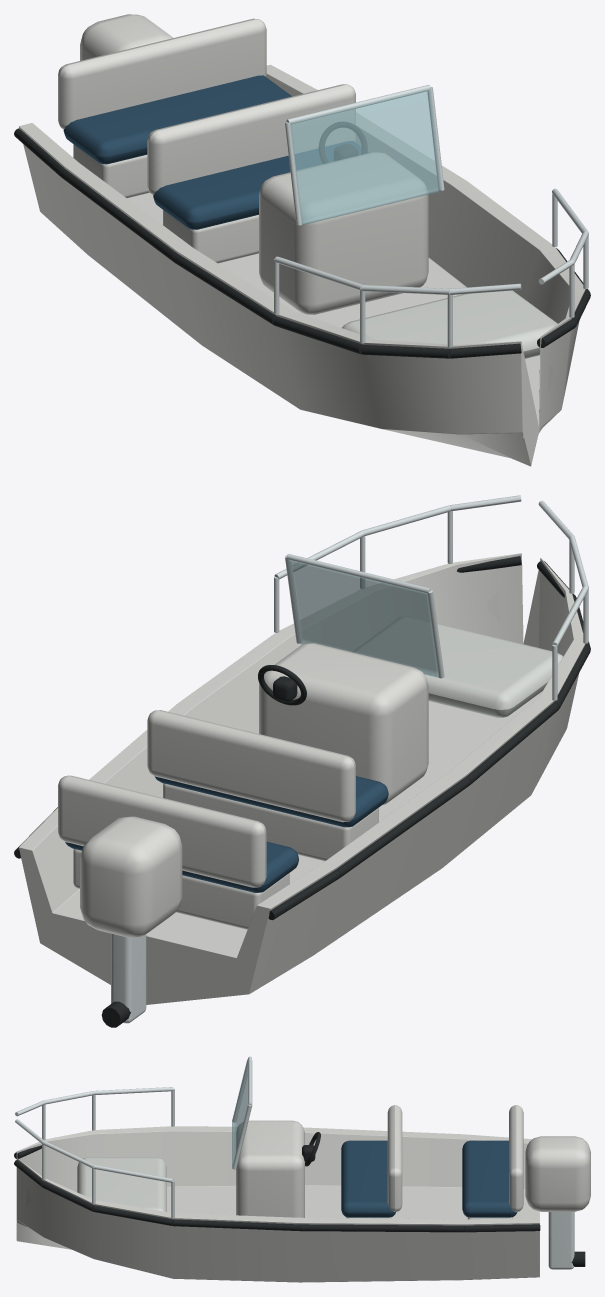
The model's file is motorboat.glb.
The picture shows the model from 3 angles, top to bottom: view 1: azimuth 30°, elevation 25°; view 2: azimuth 150°, elevation 25°; view 3: azimuth 270°, elevation 25°; orthographic projection. The views are drawn at different scales.
Visible parts, largest first — view 1: Open V hull, Centre console, Spray screen, Backrest.001, Backrest, Forward casting deck, Bench cushion.001, Bench cushion, Bench locker, Outboard cowling, Bench locker.001, Gunwale fender.004 (+10 smaller); view 2: Open V hull, Centre console, Backrest, Spray screen, Forward casting deck, Backrest.001, Outboard cowling, Bench locker, Bench locker.001, Gearcase, Bench cushion, Bench cushion.001 (+5 smaller); view 3: Open V hull, Centre console, Outboard cowling, Forward casting deck, Bench cushion, Bench cushion.001, Backrest, Backrest.001, Gearcase, Gunwale fender.010, Gunwale fender.009, Spray screen (+5 smaller).
Part boxes in pixels (x1=…): Open V hull: x1=19, y1=64, x2=585, y2=466; Centre console: x1=259, y1=152, x2=428, y2=314; Spray screen: x1=290, y1=89, x2=441, y2=225; Backrest.001: x1=58, y1=18, x2=266, y2=129; Backrest: x1=147, y1=84, x2=355, y2=194; Forward casting deck: x1=342, y1=290, x2=557, y2=358; Bench cushion.001: x1=63, y1=75, x2=291, y2=164; Bench cushion: x1=153, y1=141, x2=368, y2=229; Bench locker: x1=163, y1=210, x2=258, y2=263; Outboard cowling: x1=80, y1=14, x2=172, y2=60; Bench locker.001: x1=73, y1=144, x2=149, y2=197; Gunwale fender.004: x1=60, y1=169, x2=176, y2=261; Open V hull: x1=19, y1=553, x2=585, y2=1004; Centre console: x1=259, y1=643, x2=428, y2=804; Backrest: x1=147, y1=710, x2=355, y2=822; Spray screen: x1=287, y1=559, x2=438, y2=677; Forward casting deck: x1=353, y1=616, x2=563, y2=717; Backrest.001: x1=58, y1=775, x2=266, y2=887; Outboard cowling: x1=80, y1=816, x2=182, y2=937; Bench locker: x1=163, y1=783, x2=378, y2=861; Bench locker.001: x1=73, y1=849, x2=289, y2=929; Gearcase: x1=111, y1=933, x2=146, y2=1023; Bench cushion: x1=154, y1=776, x2=388, y2=827; Bench cushion.001: x1=65, y1=841, x2=298, y2=892; Open V hull: x1=16, y1=1126, x2=539, y2=1282; Centre console: x1=236, y1=1120, x2=304, y2=1217; Outboard cowling: x1=525, y1=1136, x2=590, y2=1211; Forward casting deck: x1=77, y1=1157, x2=166, y2=1211; Bench cushion: x1=341, y1=1140, x2=395, y2=1217; Bench cushion.001: x1=462, y1=1140, x2=517, y2=1217; Backrest: x1=387, y1=1105, x2=402, y2=1212; Backrest.001: x1=509, y1=1105, x2=523, y2=1212; Gearcase: x1=548, y1=1212, x2=574, y2=1269; Gunwale fender.010: x1=300, y1=1224, x2=464, y2=1232; Gunwale fender.009: x1=173, y1=1219, x2=299, y2=1230; Spray screen: x1=232, y1=1059, x2=252, y2=1167.
Size of the model in its own units: 2.06 by 1.83 by 5.09.
